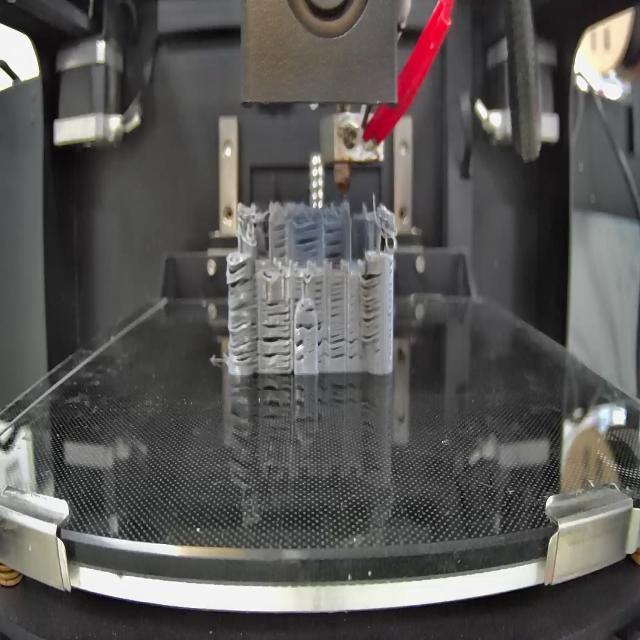cracks: (230, 304, 258, 362), (362, 270, 382, 344), (261, 322, 291, 368), (225, 256, 254, 292), (293, 222, 319, 258), (331, 332, 361, 362), (323, 224, 345, 260), (272, 224, 289, 260), (330, 280, 343, 322), (263, 298, 290, 316), (318, 320, 328, 368), (314, 279, 325, 311), (295, 338, 306, 364), (296, 320, 316, 332), (293, 277, 301, 303), (305, 304, 314, 317)
